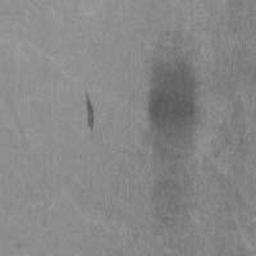Oil spot: (136, 28, 209, 228), (84, 90, 96, 132)
